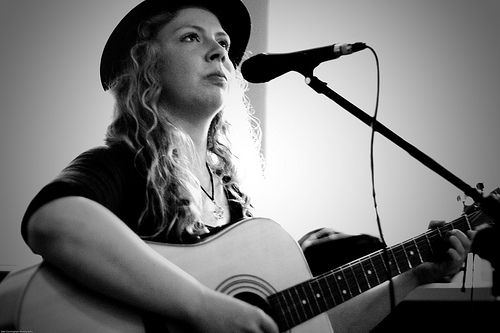guitar: (1, 185, 500, 333)
